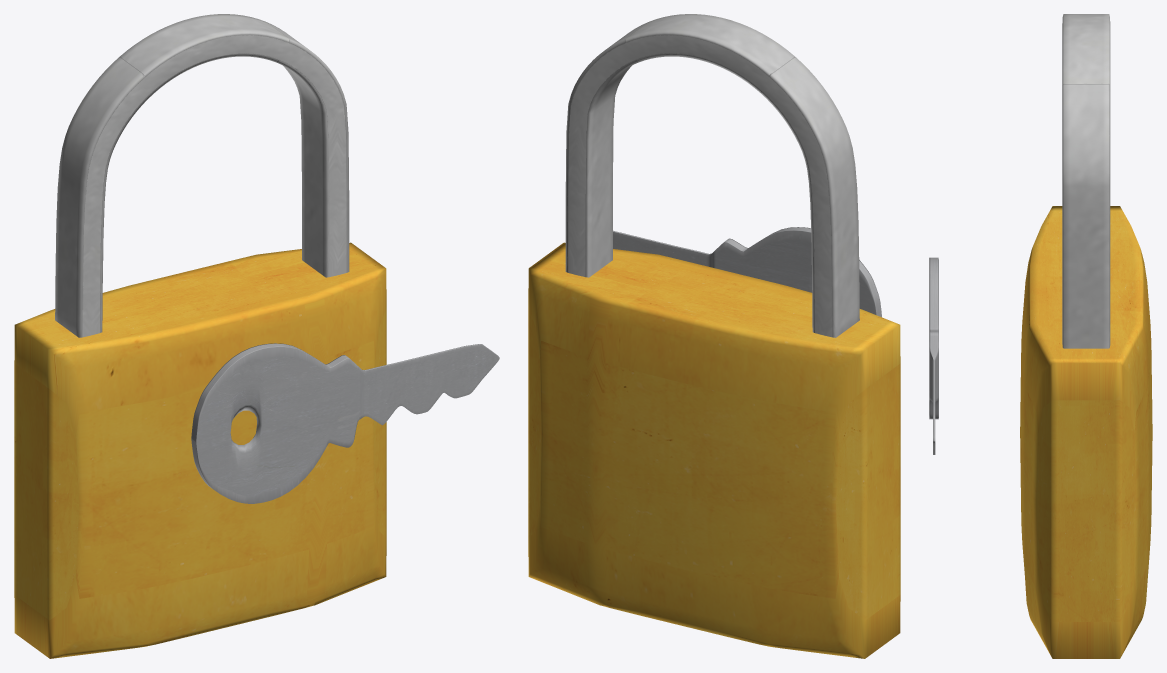
File: padlock.fbx
The picture shows the model from 3 angles, left to right: view 1: azimuth 30°, elevation 25°; view 2: azimuth 150°, elevation 25°; view 3: azimuth 270°, elevation 25°; orthographic projection. The views are drawn at different scales.
Visible parts, largest first — view 1: pCube1, pCube5, pCube6; view 2: pCube1, pCube5, pCube6; view 3: pCube1, pCube5, pCube6.
Part boxes in pixels (x1,y1,x2,y2): pCube1: (14,242,386,658); pCube5: (55,14,349,337); pCube6: (191,343,499,503); pCube1: (528,242,900,658); pCube5: (565,14,859,337); pCube6: (613,227,881,317); pCube1: (1020,206,1152,658); pCube5: (1062,14,1110,348); pCube6: (929,257,938,454).
Size of the model in its own units: 1.04 by 1.48 by 0.542.
